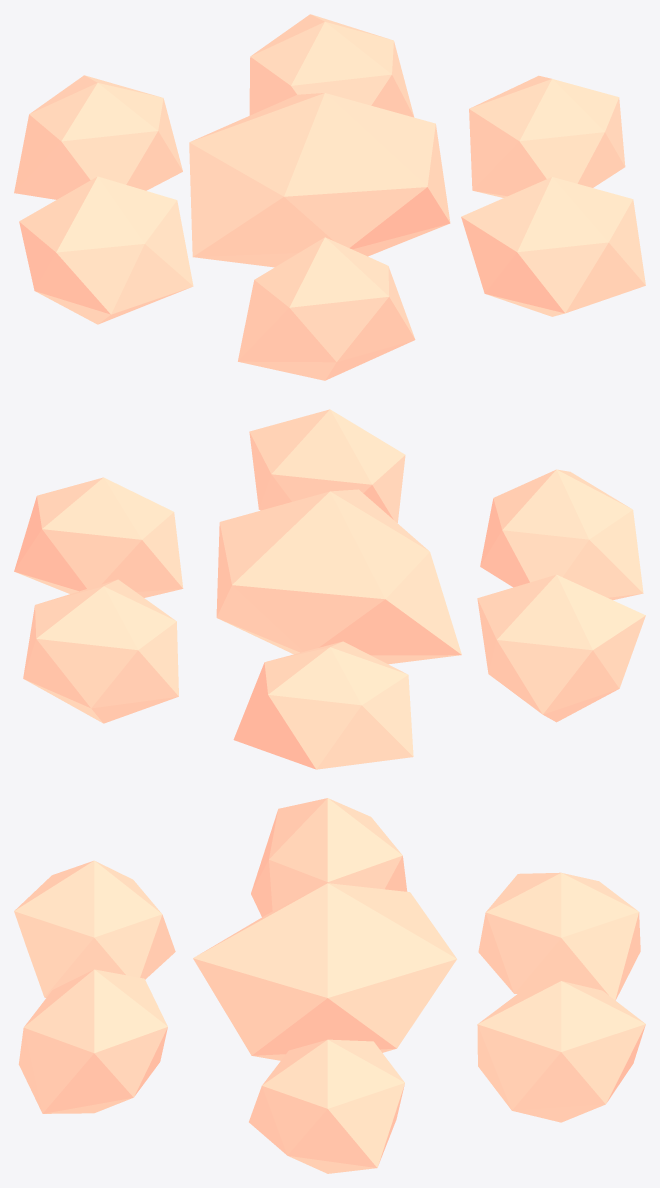
Rendered from cookfire.fbx.
3 views of the same model, one above another, from view 1: azimuth 30°, elevation 25°; view 2: azimuth 150°, elevation 25°; view 3: azimuth 270°, elevation 25° (orthographic). The views are drawn at different scales.
Parts seen in each view (by area): view 1: cookfire; view 2: cookfire; view 3: cookfire.
Part boxes in pixels (x1,y1,x2,y2): cookfire: [14, 14, 645, 380]; cookfire: [14, 409, 645, 769]; cookfire: [14, 798, 645, 1173].
Bounding box in the file's own units: 284 × 83.65 × 258.
